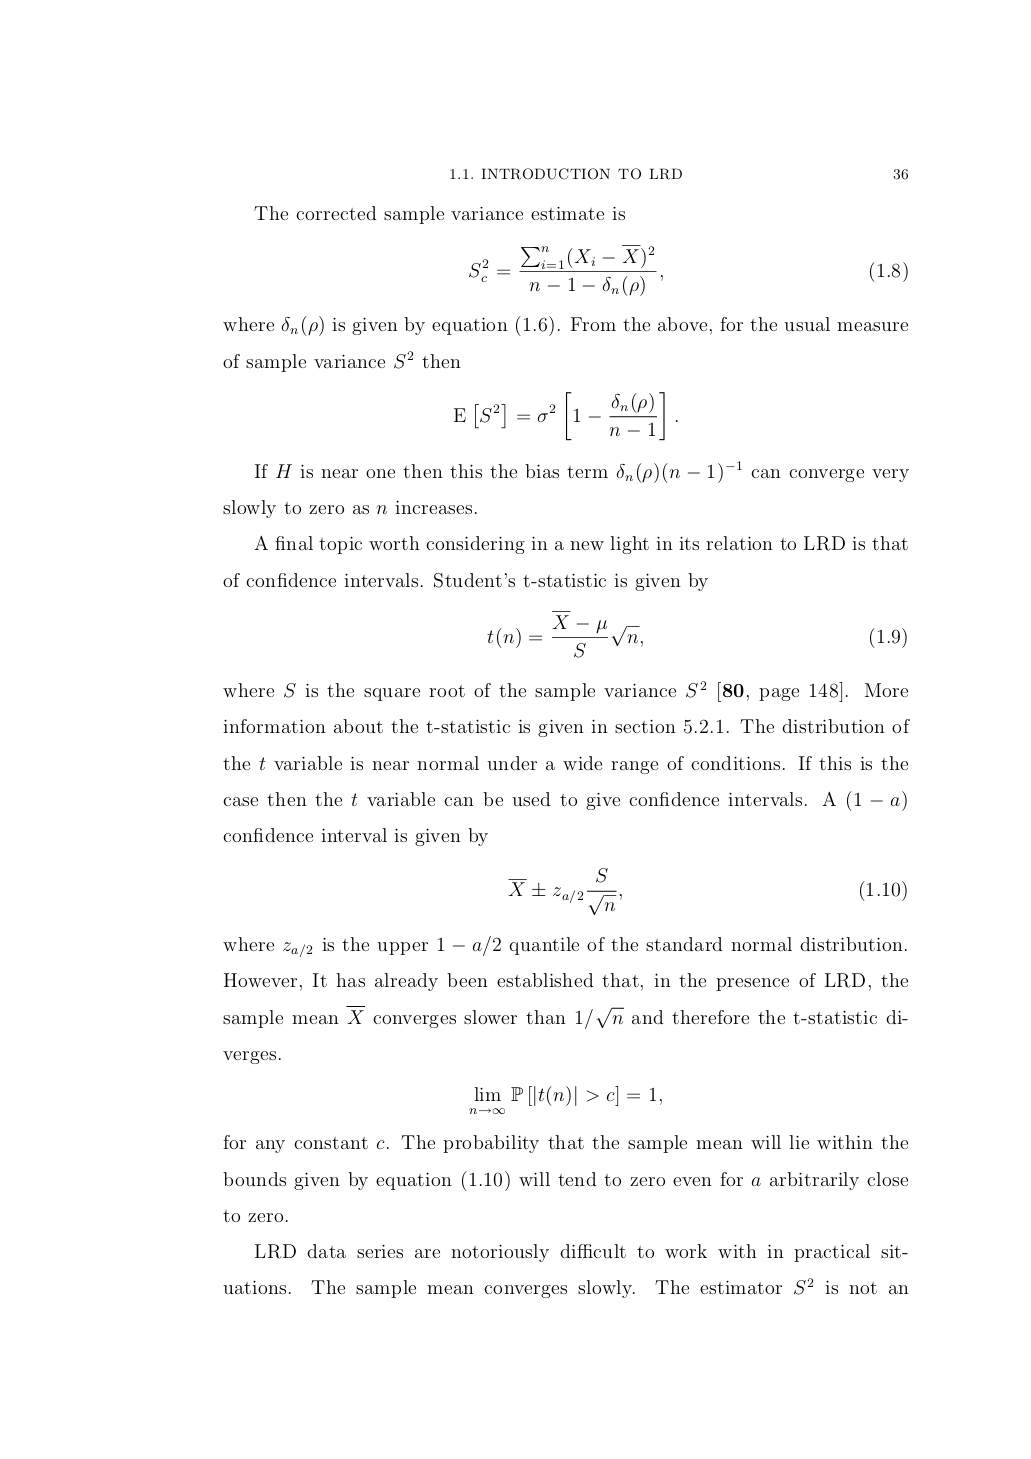formula: (469, 244, 907, 296), (486, 610, 906, 658), (508, 867, 906, 916), (453, 392, 677, 441), (469, 1085, 661, 1115)
